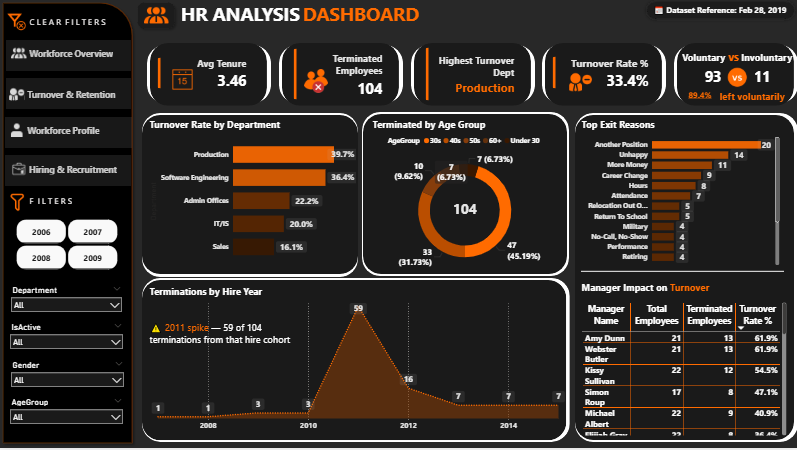

This screenshot's page, from the dashboard's own definition file:
{"tool":"powerbi","page":{"name":"Turnover & Retention","canvas":[1600,900],"ordinal":1},"visuals":[{"type":"shape","box":[298,94.1,99.8,116.7],"z":0,"group":"g5"},{"type":"shape","box":[561.5,94.1,99.8,116.7],"z":0,"group":"g4"},{"type":"shape","box":[825,94.1,99.8,116.7],"z":0,"group":"g1"},{"type":"shape","box":[1088.5,94.1,99.8,116.7],"z":0,"group":"g2"},{"type":"shape","box":[1352,94.1,99.8,116.7],"z":0,"group":"g3"},{"type":"shape","box":[1154,230,446,658],"z":0},{"type":"shape","box":[446.5,94.4,100.1,116.4],"z":1000,"group":"g5"},{"type":"shape","box":[710,94.4,100.1,116.4],"z":1000,"group":"g4"},{"type":"shape","box":[973.5,94.4,100.1,116.4],"z":1000,"group":"g1"},{"type":"shape","box":[1237,94.4,100.1,116.4],"z":1000,"group":"g2"},{"type":"shape","box":[1500.5,94.4,100.1,116.4],"z":1000,"group":"g3"},{"type":"shape","box":[288,230,432,328],"z":1000},{"type":"shape","box":[0,0,278.1,900],"z":2000},{"type":"shape","box":[304.7,89.4,233.8,125.5],"z":2000,"group":"g5"},{"type":"shape","box":[568.2,89.4,233.8,125.5],"z":2000,"group":"g4"},{"type":"shape","box":[831.7,89.4,233.8,125.5],"z":2000,"group":"g1"},{"type":"shape","box":[1095.2,89.4,233.8,125.5],"z":2000,"group":"g2"},{"type":"shape","box":[1358.7,89.4,233.8,125.5],"z":2000,"group":"g3"},{"type":"shape","box":[1289.8,0,310,49.6],"z":3000},{"type":"textbox","box":[1302,8,284,48],"z":4000},{"type":"textbox","box":[322.5,0,563.8,77.5],"z":5000},{"type":"shape","box":[270,0,92.5,70],"z":6000},{"type":"advancedSlicerVisual","fields":{"Values":["Dim_Date.Year"]},"box":[31.9,418.1,212.6,150.6],"z":7000},{"type":"textbox","box":[58.5,389.8,118.7,37.2],"z":8000},{"type":"slicer","fields":{"Values":["Dim_Department.Department"]},"box":[16,568,242,72],"z":9000},{"type":"slicer","fields":{"Values":["HR_Fact_Table.IsActive"]},"box":[13.3,642.7,246,72],"z":10000},{"type":"slicer","fields":{"Values":["Dim_Employee.Sex"]},"box":[16,717.3,246,72],"z":11000},{"type":"slicer","fields":{"Values":["Dim_Employee.AgeGroup"]},"box":[14.7,792,246,76],"z":12000},{"type":"actionButton","box":[16,84,246,54],"z":13000},{"type":"actionButton","box":[12,166,246,54],"z":14000},{"type":"actionButton","box":[12,238,246,54],"z":15000},{"type":"actionButton","box":[16,314,242,54],"z":16000},{"type":"image","box":[287.5,10,56.2,48.8],"z":17000},{"type":"group","id":"g1","title":"KPI Shape","box":[825,89.4,248,124],"z":18000},{"type":"shape","box":[16,84,250,62],"z":19000},{"type":"shape","box":[16,160,250,62],"z":20000},{"type":"shape","box":[14,237.3,254,62],"z":21000},{"type":"shape","box":[14,314,252,62],"z":22000},{"type":"image","box":[12.8,24.8,49.6,44.3],"z":23000},{"type":"image","box":[17.3,389.8,40.7,37.2],"z":24000},{"type":"shape","box":[288,234,432,318],"z":25000},{"type":"shape","box":[1154,234,438,650],"z":26000},{"type":"clusteredBarChart","title":"Turnover Rate by Department","fields":{"Category":["Dim_Department.Department"],"Y":["Dax_Measures.Turnover Rate %"]},"box":[297.6,240.9,423.4,299.4],"z":27000},{"type":"textbox","box":[58.5,31.9,171.9,37.2],"z":28000},{"type":"group","id":"g2","title":"KPI Shape","box":[1088.5,89.4,248,124],"z":29000},{"type":"group","id":"g3","title":"KPI Shape","box":[1352,89.4,248,124],"z":30000},{"type":"group","id":"g4","title":"KPI Shape","box":[561.5,89.4,248,124],"z":31000},{"type":"group","id":"g5","title":"KPI Shape","box":[298,89.4,248,124],"z":32000},{"type":"cardVisual","fields":{"Data":["Dax_Measures.Turnover Rate %"]},"box":[1080,88,262,122],"z":33000},{"type":"image","box":[1142,142,46,52],"z":34000},{"type":"cardVisual","fields":{"Data":["Dax_Measures.Terminated Employees"]},"box":[562,72,248,160],"z":35000},{"type":"cardVisual","fields":{"Data":["Dax_Measures.Highest Turnover Dept"]},"box":[825.6,69.1,248,164.8],"z":36000},{"type":"clusteredBarChart","title":"Top Exit Reasons","fields":{"Category":["HR_Fact_Table.TermReason"],"Y":["Sum(HR_Fact_Table.Termd)"]},"box":[1162.2,240.9,405.7,299.4],"z":37000},{"type":"shape","box":[728,228,414,328],"z":38000},{"type":"shape","box":[730,232,408,320],"z":39000},{"type":"donutChart","title":"Terminated by Age Group","fields":{"Category":["Dim_Employee.AgeGroup"],"Y":["Dax_Measures.Terminated Employees"]},"box":[744.1,240.9,379.1,317.1],"z":40000},{"type":"shape","box":[287,559.8,855.7,327.8],"z":41000},{"type":"shape","box":[288.8,563.4,848.6,320.7],"z":42000},{"type":"areaChart","title":"Terminations by Hire Year","fields":{"Y":["Dax_Measures.Terminated Employees"],"Category":["HR_Fact_Table.Hire Year"]},"box":[297.6,574,845.1,301.2],"z":43000},{"type":"tableEx","title":"Employees by Age Group","fields":{"Values":["HR_Fact_Table.ManagerName","Dax_Measures.Total Employees","Dax_Measures.Terminated Employees","Dax_Measures.Turnover Rate %"]},"box":[1162.2,604.1,419.9,276.4],"z":44000},{"type":"shape","box":[1165.7,536.8,405.7,21.3],"z":45000},{"type":"card","fields":{"Values":["Dax_Measures.Terminated Employees"]},"box":[875.2,396.9,115.2,53.1],"z":46000},{"type":"textbox","box":[1162.2,559.8,269.3,39],"z":47000},{"type":"image","box":[612,140,48,52],"z":48000},{"type":"cardVisual","fields":{"Data":["Dax_Measures.Voluntary Exits","Dax_Measures.Involuntary Exits"]},"box":[1351.8,120.5,223.2,99.2],"z":49000},{"type":"textbox","box":[1358.9,97.4,240.9,42.5],"z":50000},{"type":"textbox","box":[1433.3,177.2,148.8,37.2],"z":51000},{"type":"image","box":[1456.3,138.2,44.3,40.7],"z":52000},{"type":"cardVisual","fields":{"Data":["Dax_Measures.Avg Tenure (Terminated)"]},"box":[290.6,90.4,248,120.5],"z":53000},{"type":"image","box":[344,132,50,62],"z":54000},{"type":"textbox","box":[298,640,314,66],"z":55000}]}

Visuals, with their boxes in screenshot pixels (x1, y1, x2, y2):
shape: (153,52,202,110)
shape: (282,52,331,110)
shape: (412,52,461,110)
shape: (541,52,590,110)
shape: (670,52,719,110)
shape: (573,119,792,442)
shape: (226,53,275,110)
shape: (355,53,404,110)
shape: (484,53,534,110)
shape: (614,53,663,110)
shape: (743,53,793,110)
shape: (148,119,360,280)
shape: (6,6,143,448)
shape: (156,50,271,112)
shape: (285,50,400,112)
shape: (415,50,530,112)
shape: (544,50,659,112)
shape: (674,50,789,112)
shape: (640,6,792,31)
textbox: (646,10,785,34)
textbox: (165,6,442,44)
shape: (139,6,184,41)
advancedSlicerVisual - Dim_Date.Year: (22,212,126,286)
textbox: (35,198,93,216)
slicer - Dim_Department.Department: (14,285,133,321)
slicer - HR_Fact_Table.IsActive: (13,322,134,357)
slicer - Dim_Employee.Sex: (14,359,135,394)
slicer - Dim_Employee.AgeGroup: (13,395,134,433)
actionButton: (14,47,135,74)
actionButton: (12,88,133,114)
actionButton: (12,123,133,150)
actionButton: (14,160,133,187)
image: (147,11,175,35)
"KPI Shape" group: (412,50,533,111)
shape: (14,47,137,78)
shape: (14,85,137,115)
shape: (13,123,138,153)
shape: (13,160,137,191)
image: (13,18,37,40)
image: (15,198,35,216)
shape: (148,121,360,277)
shape: (573,121,788,440)
"Turnover Rate by Department" clusteredBarChart: (152,125,360,272)
textbox: (35,22,119,40)
"KPI Shape" group: (541,50,663,111)
"KPI Shape" group: (670,50,792,111)
"KPI Shape" group: (282,50,404,111)
"KPI Shape" group: (153,50,274,111)
cardVisual - Dax_Measures.Turnover Rate %: (537,49,665,109)
image: (567,76,590,102)
cardVisual - Dax_Measures.Terminated Employees: (282,42,404,120)
cardVisual - Dax_Measures.Highest Turnover Dept: (412,40,534,121)
"Top Exit Reasons" clusteredBarChart: (577,125,776,272)
shape: (364,118,567,279)
shape: (365,120,565,277)
"Terminated by Age Group" donutChart: (372,125,558,280)
shape: (147,281,568,442)
shape: (148,283,565,441)
"Terminations by Hire Year" areaChart: (152,288,568,436)
"Employees by Age Group" tableEx: (577,303,783,439)
shape: (579,270,778,280)
card - Dax_Measures.Terminated Employees: (436,201,493,227)
textbox: (577,281,709,300)
image: (307,75,330,101)
cardVisual - Dax_Measures.Voluntary Exits x Dax_Measures.Involuntary Exits: (670,65,780,114)
textbox: (674,54,792,75)
textbox: (710,93,783,112)
image: (722,74,743,94)
cardVisual - Dax_Measures.Avg Tenure (Terminated): (149,51,271,110)
image: (175,71,200,102)
textbox: (153,321,307,353)
